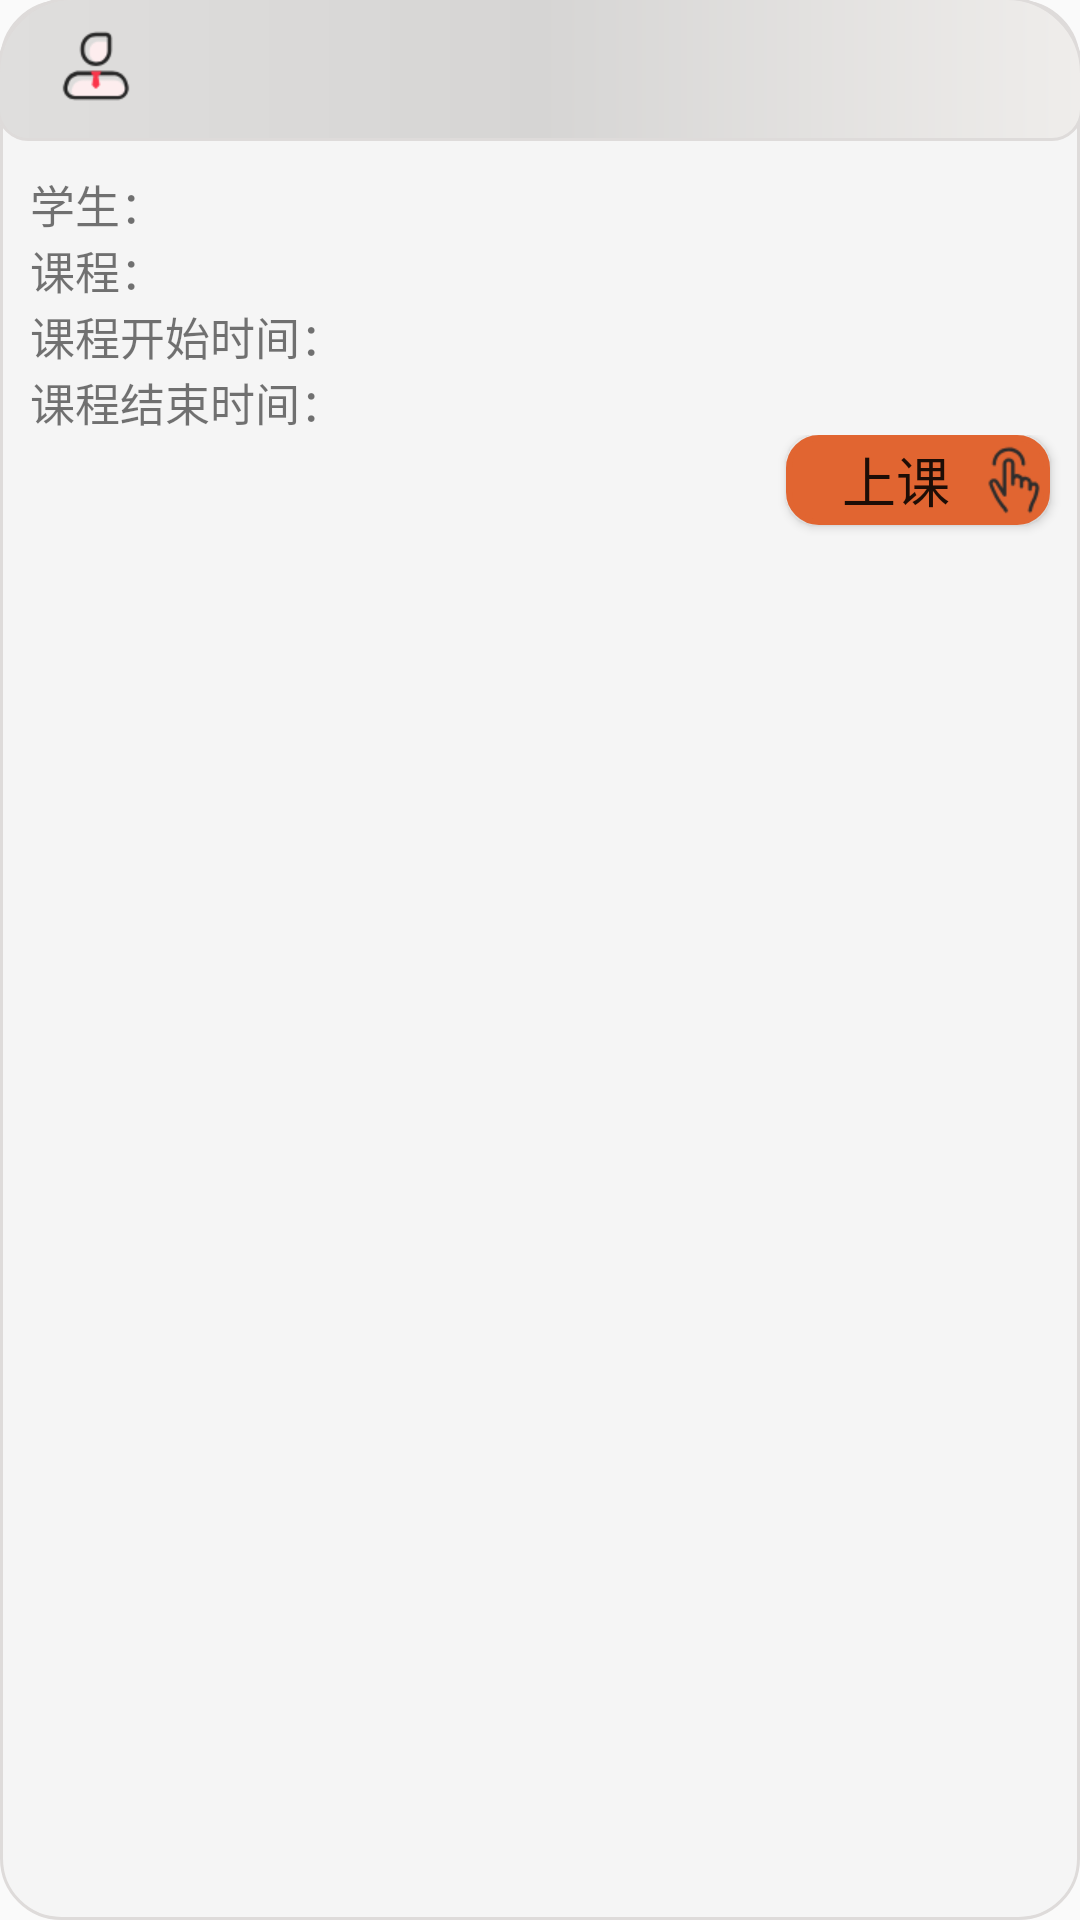

Icon bounding boxes for this 1080 x 1920 phone screenshot, format (x1, y1, x2, y2):
teacher: (63, 32, 129, 101)
